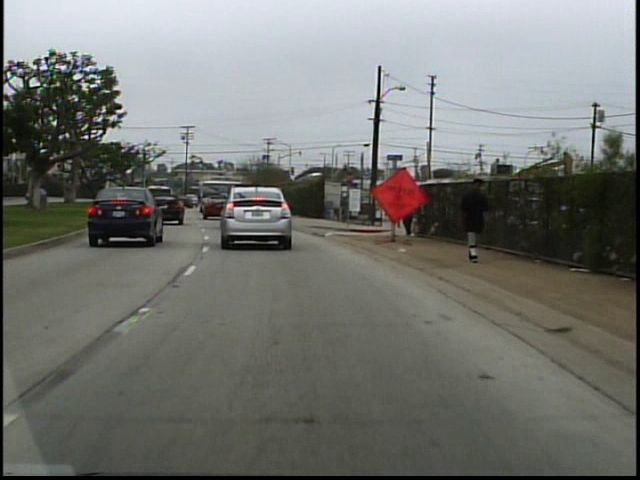person: (454, 170, 493, 267), (396, 183, 424, 241)
